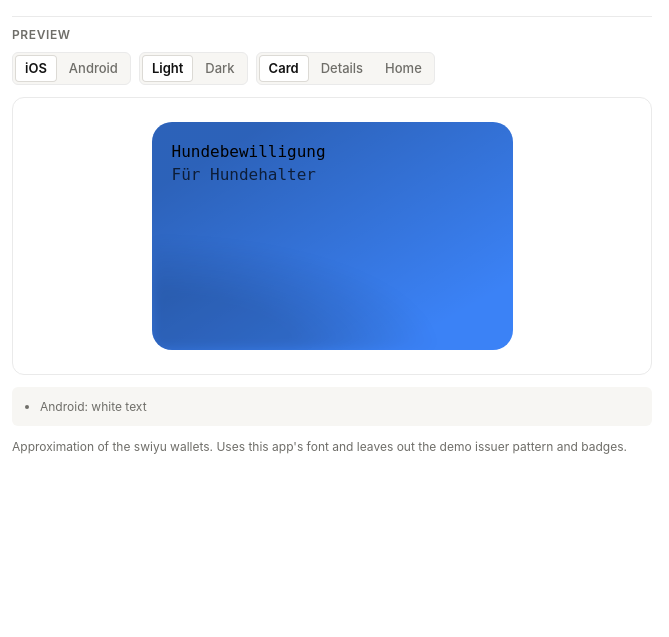
Test: CardPreview in the wallet preview › starts on the iOS card and switches platform and card
Expected: the element named "iOS card" shows "Hundebewilligung", top-left (172, 142), bottom-right (326, 161)
Expected: the element showing "Hundebewilligung Für Hundehalter" is shown, top-left (152, 122), bottom-right (512, 350)
Click the button "Android" at (93, 69), box top-left (59, 55), bottom-right (128, 82)
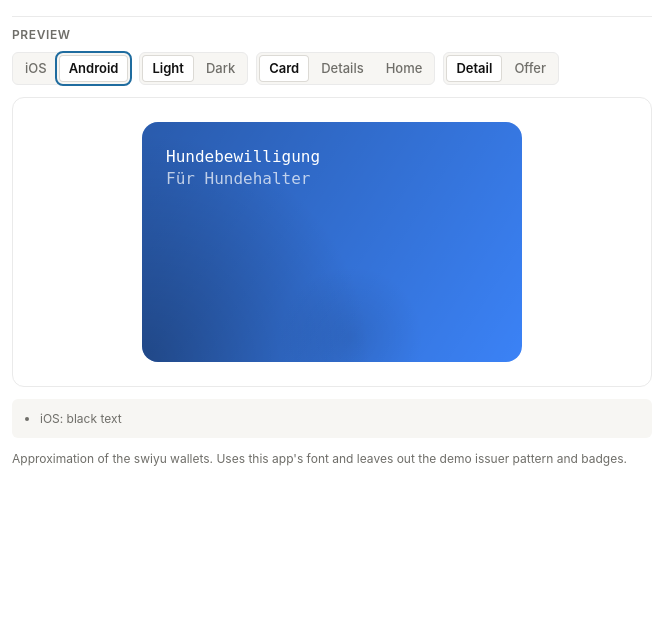
Now the list item "iOS: black text" is shown, box top-left (40, 411), bottom-right (122, 426)
Click the button "Offer" at (530, 69), box top-left (504, 55), bottom-right (556, 82)
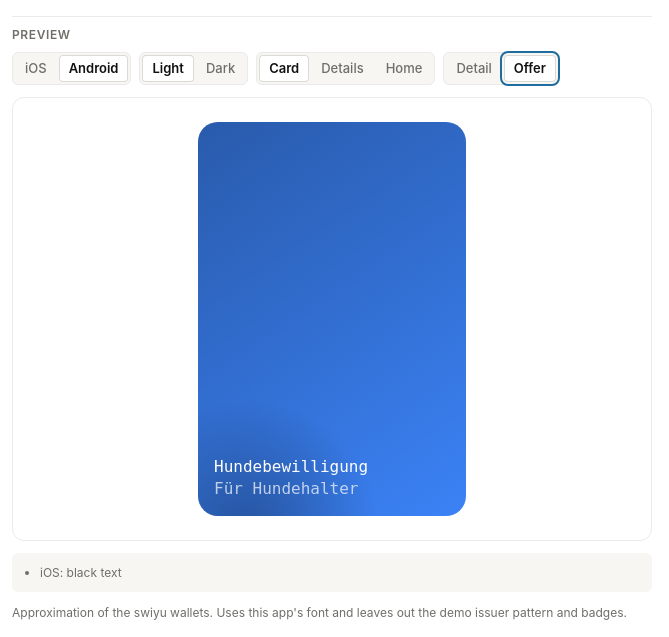
Now the element named "Android offer card" is shown, box top-left (198, 122), bottom-right (466, 516)
